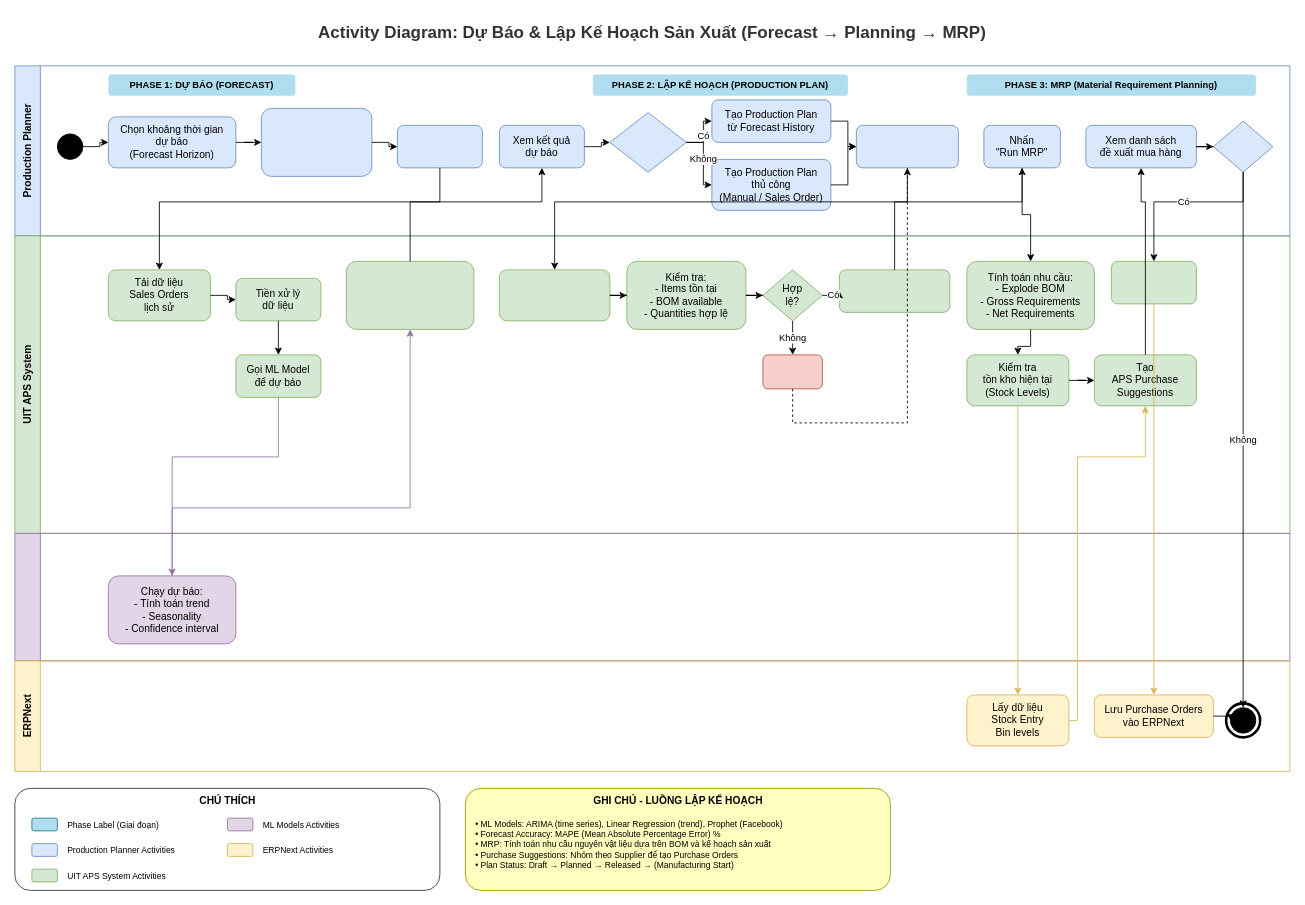
Some shapes in this 1305 by 905 pixel diagram are drawn without their labels. Each missing label, with the box of its shape:
Chuyển status: Planned → Released: (839, 269, 950, 312)
Chọn ML Model: - ARIMA - Linear Regression - Prophet: (261, 108, 372, 176)
Dựa trên Forecast?: (609, 112, 686, 172)
Hiển thị lỗi: (762, 354, 822, 389)
Lưu APS Production Plan (status: Draft): (499, 269, 610, 321)
Lưu kết quả: - APS Forecast History - APS Forecast Result - Accuracy (MAPE%): (346, 261, 474, 329)
ML Models: (14, 533, 1290, 661)
Nhấn "Run Forecast": (397, 125, 482, 168)
Tạo PO?: (1213, 120, 1273, 172)
Tạo Purchase Orders: (1111, 261, 1196, 304)
Định nghĩa Items & Quantities: (856, 125, 958, 168)
